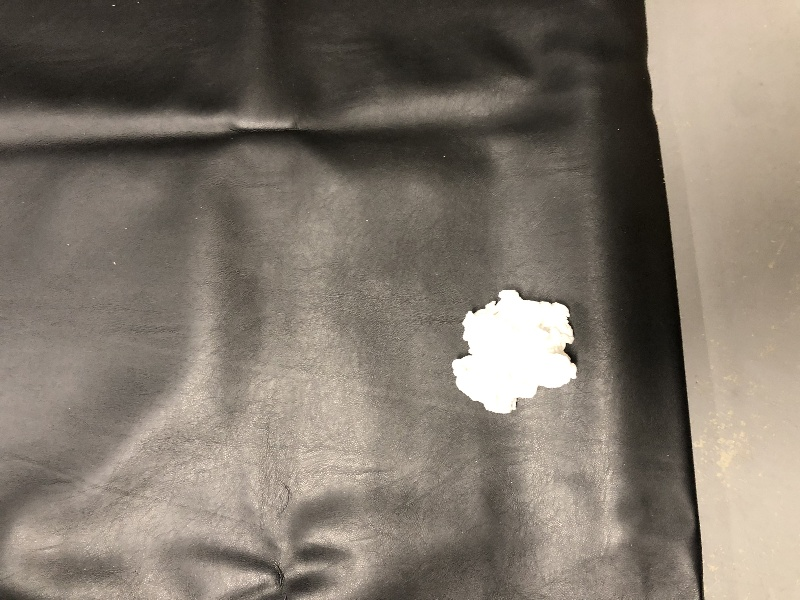paper: (442, 278, 589, 419)
